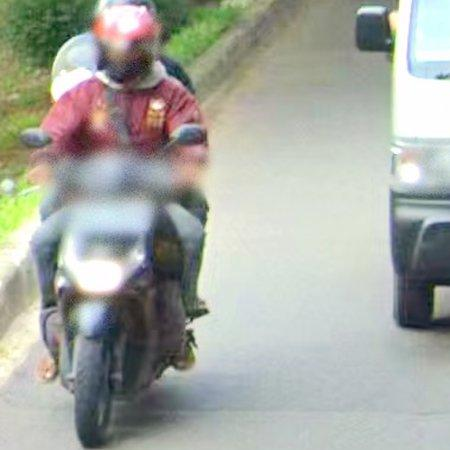motorcycles: (32, 152, 204, 445)
